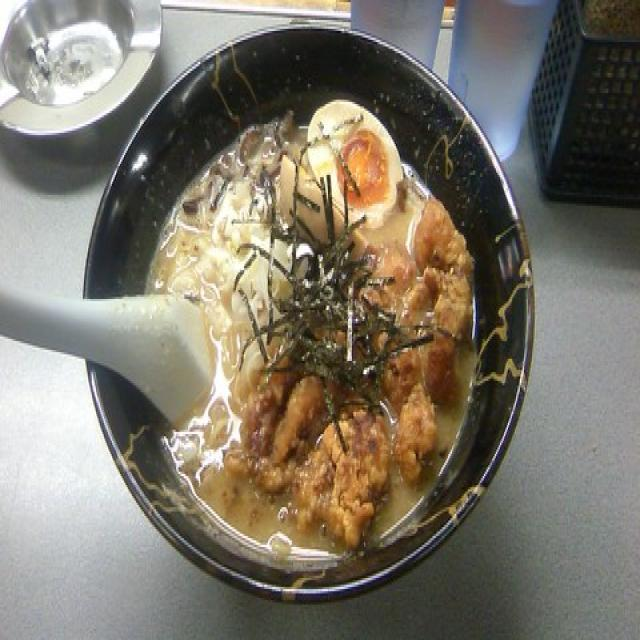面条主食: (80, 16, 536, 604)
